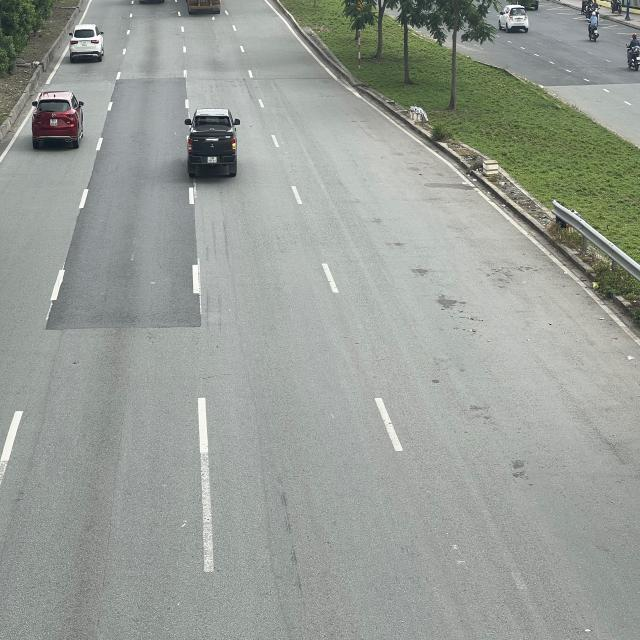car: (185, 106, 240, 180), (30, 89, 84, 145), (66, 22, 105, 64)
